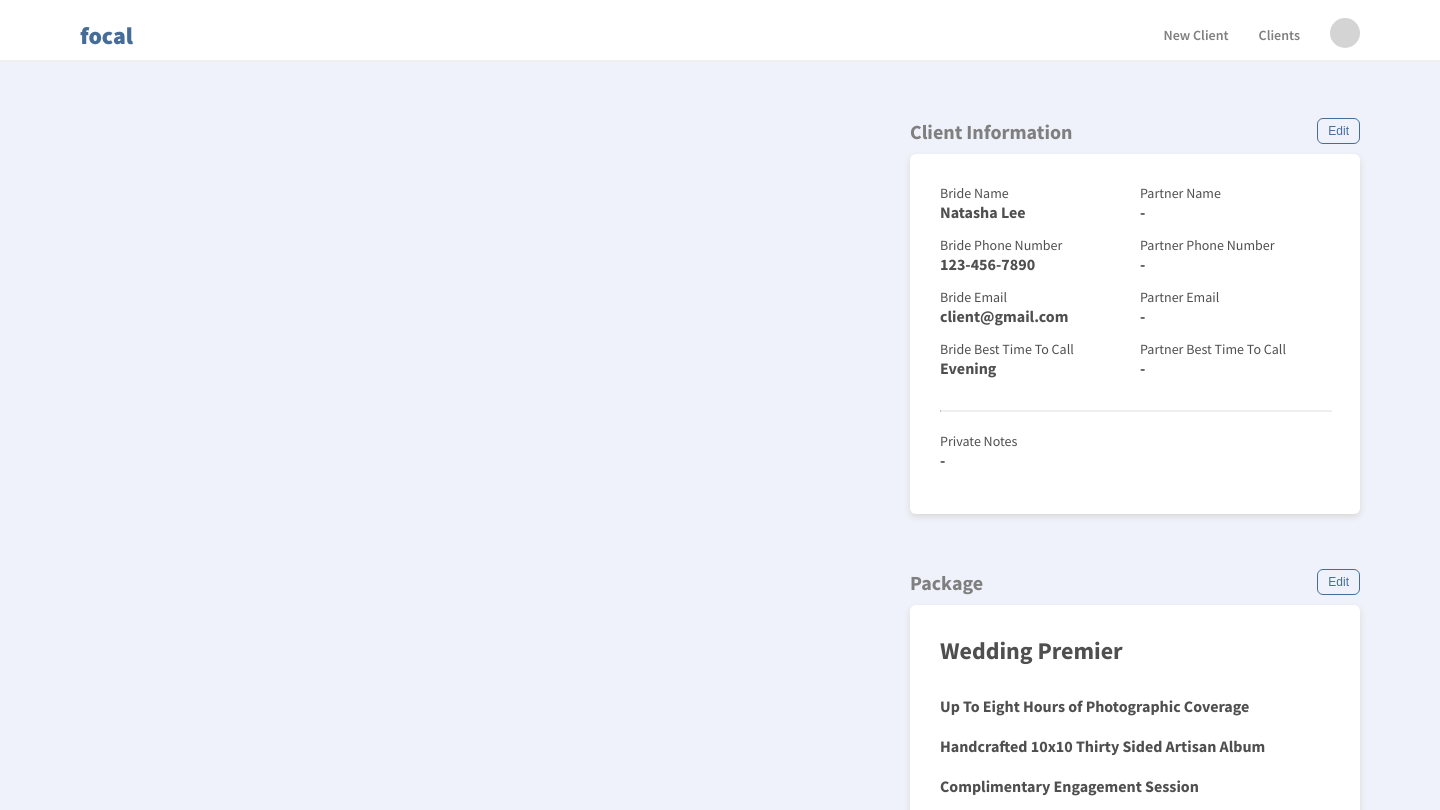
Scenario: Package Flow › renders error banner after failed client package update
Check: the heading "Natasha Lee" is shown, box top-left (940, 202), bottom-right (1026, 222)
Click the button with test id "edit-package-btn" at x=1339, y=582, box top-left (1317, 569), bottom-right (1360, 595)
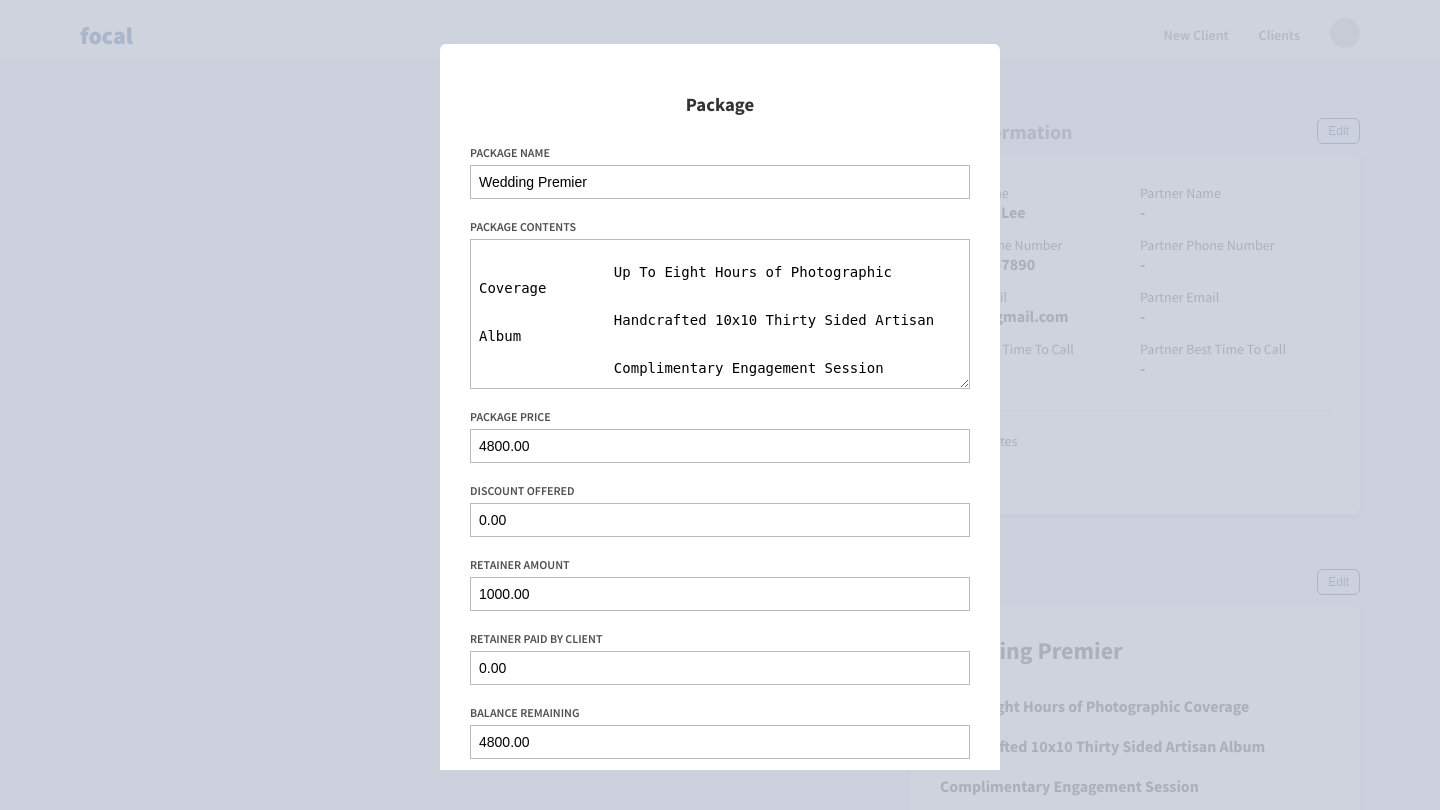
Replace the text in the field labelled "Package Name" with "Wedding Classic" at x=720, y=181, box top-left (470, 164), bottom-right (970, 198)
(page scrolled)
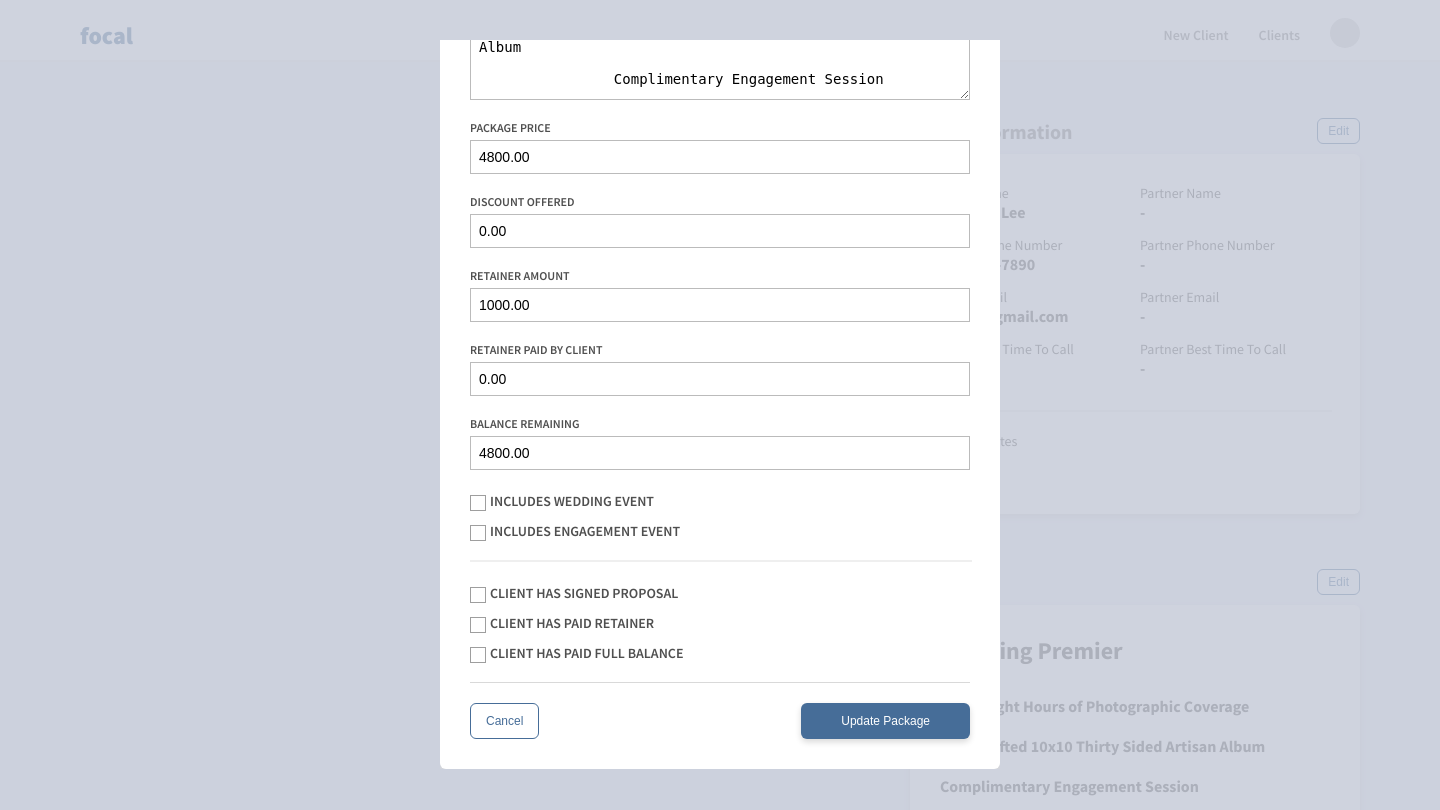
Click the button "Update Package" at x=886, y=721, box top-left (801, 703), bottom-right (970, 739)
(page scrolled)
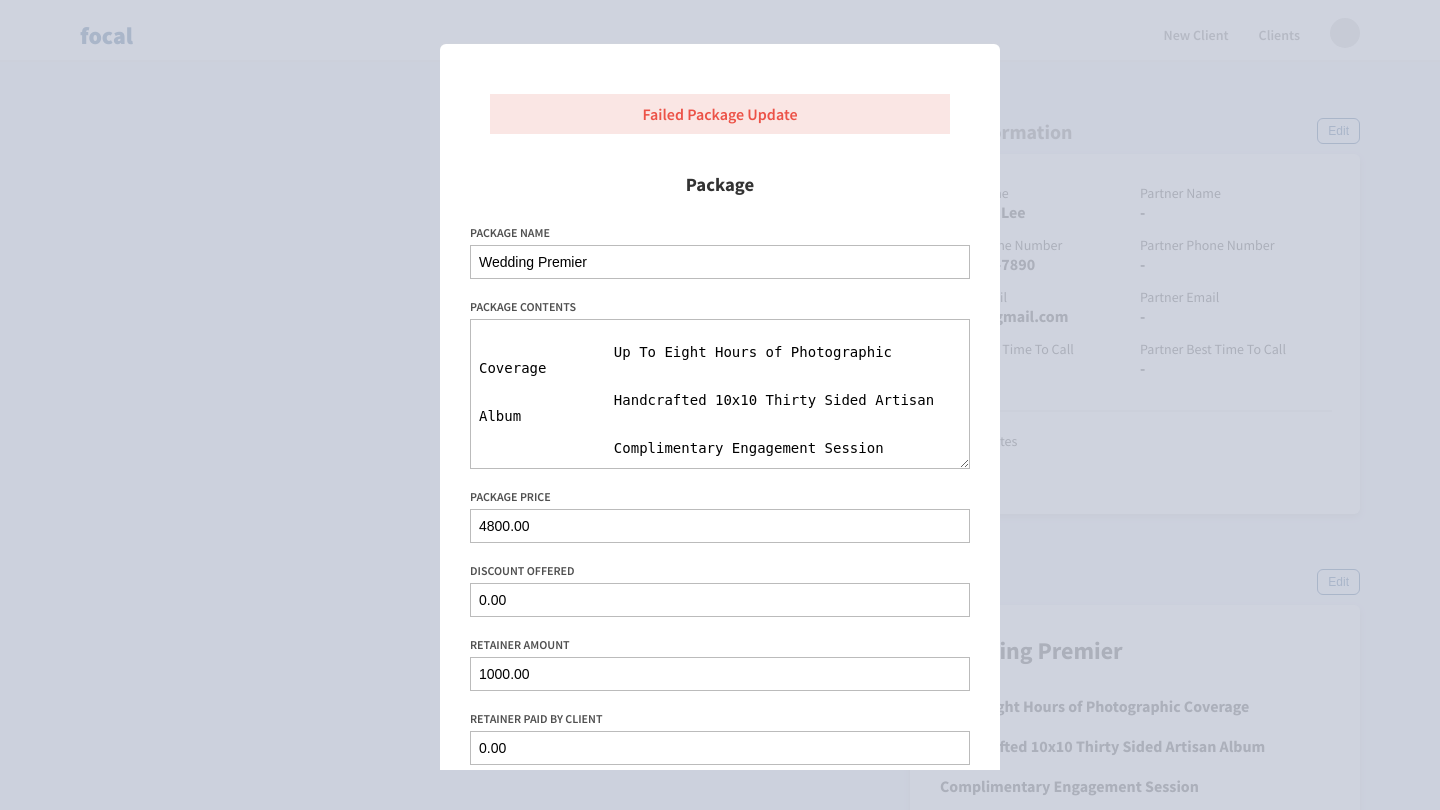
Check: the text "Failed package update" is shown, box top-left (490, 94), bottom-right (950, 134)
